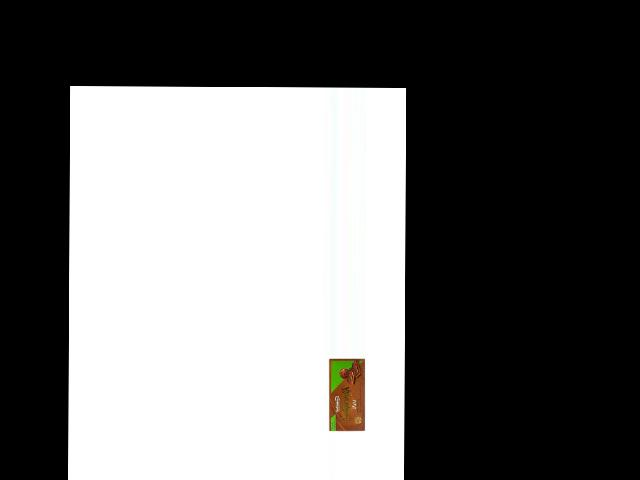chocolate: (327, 357, 368, 434)
